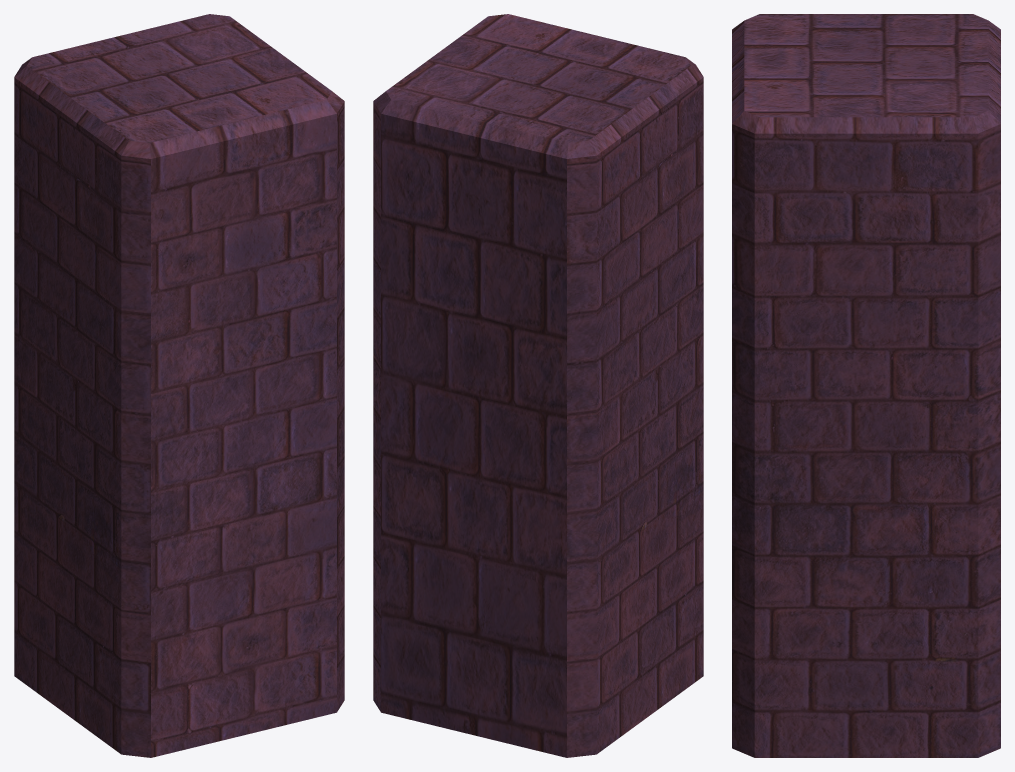
File: Pillar.fbx
The picture shows the model from 3 angles, left to right: view 1: azimuth 30°, elevation 25°; view 2: azimuth 150°, elevation 25°; view 3: azimuth 270°, elevation 25°; orthographic projection. The views are drawn at different scales.
Parts seen in each view (by area): view 1: Plataforma; view 2: Plataforma; view 3: Plataforma.
Part boxes in pixels (x1=…): Plataforma: x1=14, y1=14, x2=344, y2=757; Plataforma: x1=373, y1=14, x2=703, y2=757; Plataforma: x1=732, y1=14, x2=1000, y2=757.
Size of the model in its own units: 200 by 522 by 200.
